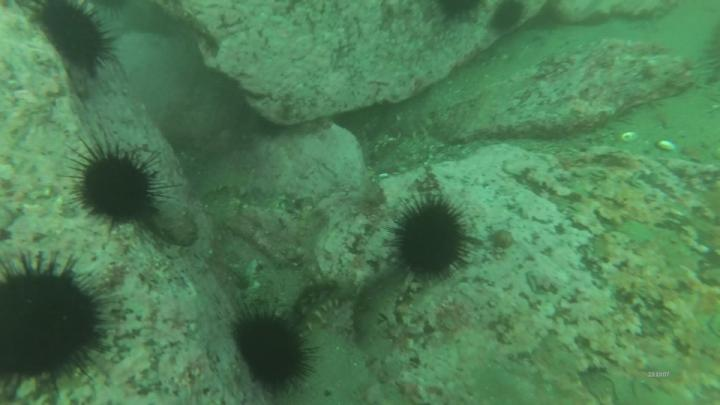echinus: (2, 250, 121, 404), (54, 124, 186, 241), (227, 297, 320, 405), (383, 195, 481, 292), (23, 2, 129, 87), (435, 1, 487, 28), (488, 3, 527, 36)
holothurian: (293, 271, 367, 324)
